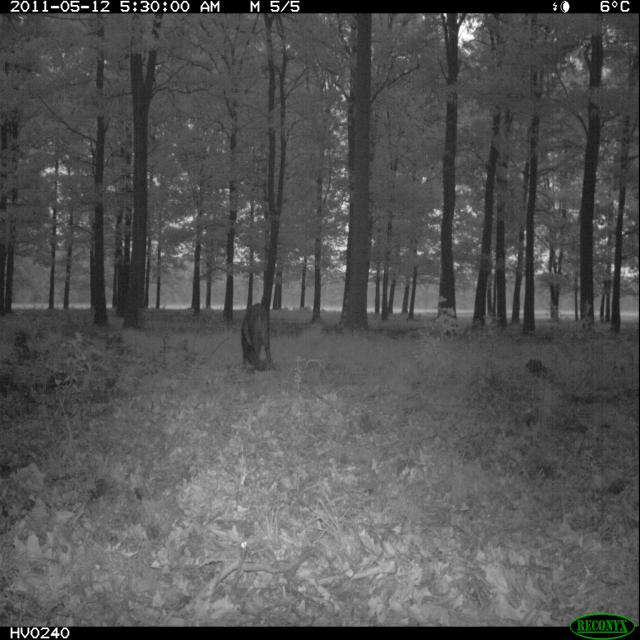boar: (217, 282, 302, 411)
